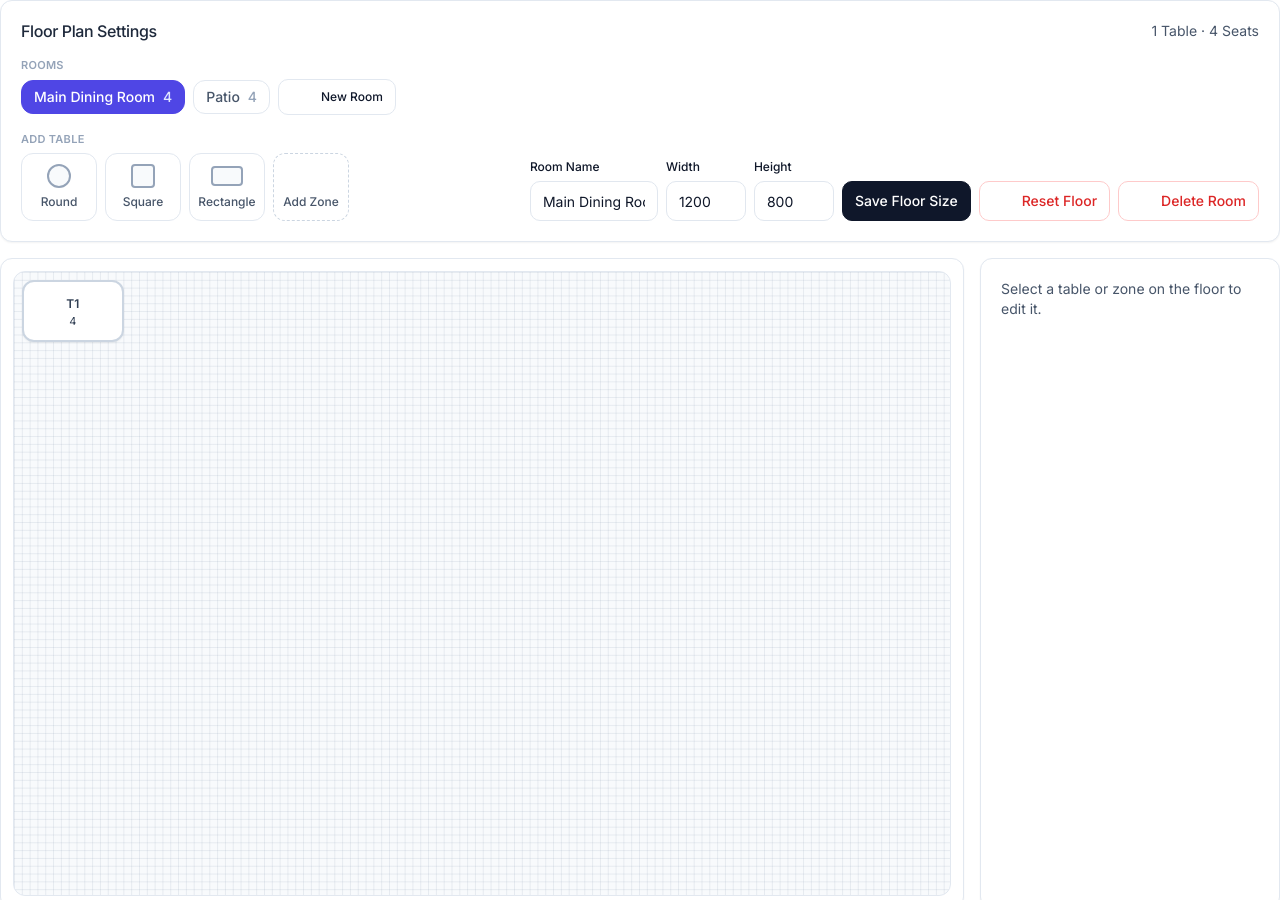
Test: rooms › switches the canvas when another room is chosen
Expected: the button with test id "table-node-T1" is shown, [22,280,124,342]
Click the button "Patio 4" at [232, 97], box [193,80,270,114]
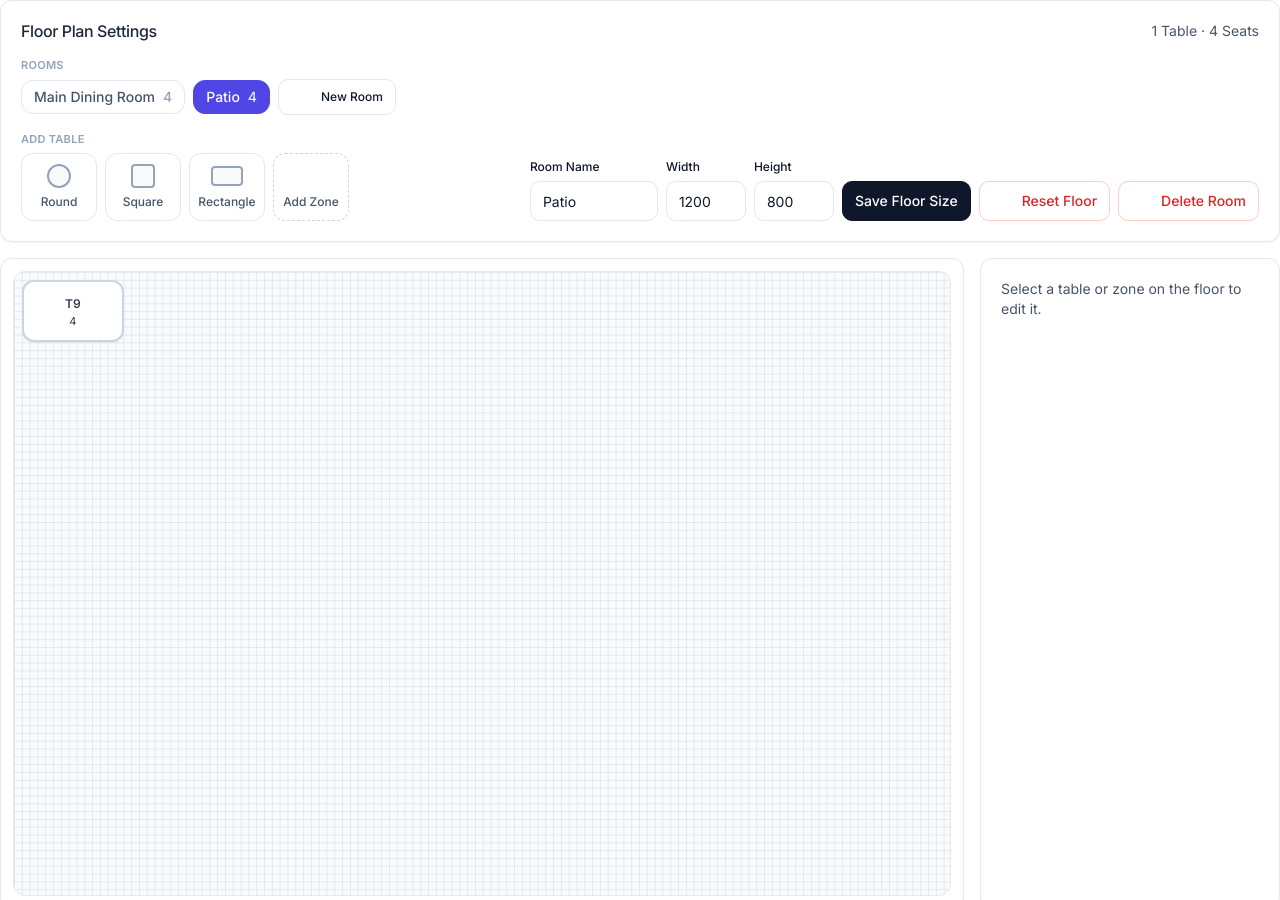
Now the button with test id "table-node-T9" is shown, box [22,280,124,342]
Now the button with test id "table-node-T1" is gone
